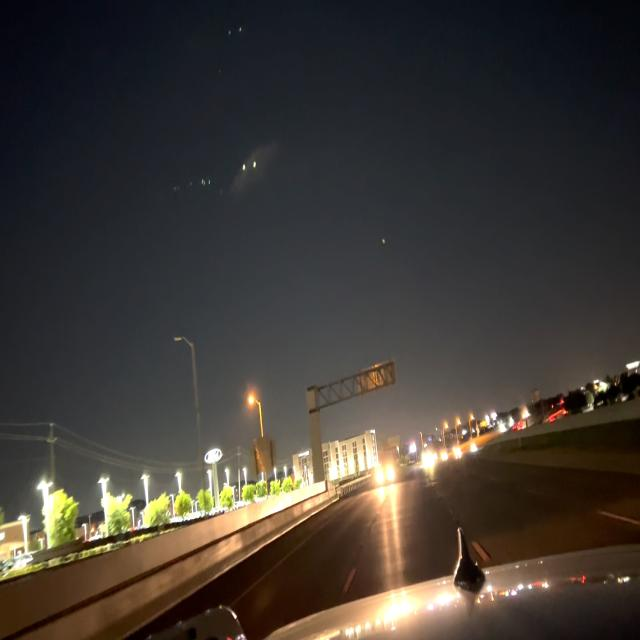back-of-sign: (356, 360, 396, 399), (251, 437, 276, 475)
